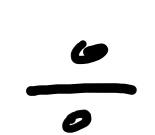div: (26, 40, 137, 133)
